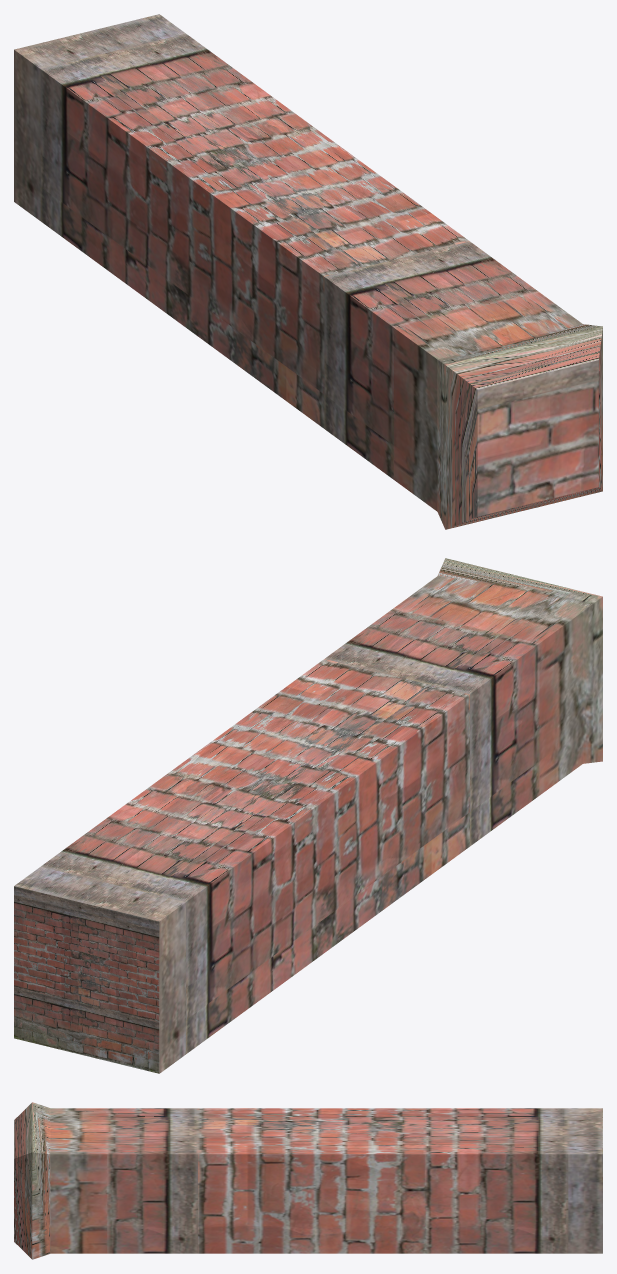
Rendered from wallbeam_wtf.obj.
3 views of the same model, one above another, from view 1: azimuth 30°, elevation 25°; view 2: azimuth 150°, elevation 25°; view 3: azimuth 270°, elevation 25° (orthographic). The views are drawn at different scales.
Visible parts, largest first — view 1: group2; view 2: group2; view 3: group2.
Part boxes in pixels (x1=…): group2: x1=14, y1=14, x2=602, y2=529; group2: x1=14, y1=558, x2=602, y2=1073; group2: x1=14, y1=1102, x2=602, y2=1259.
Bounding box in the file's own units: 133 × 133 × 660.
